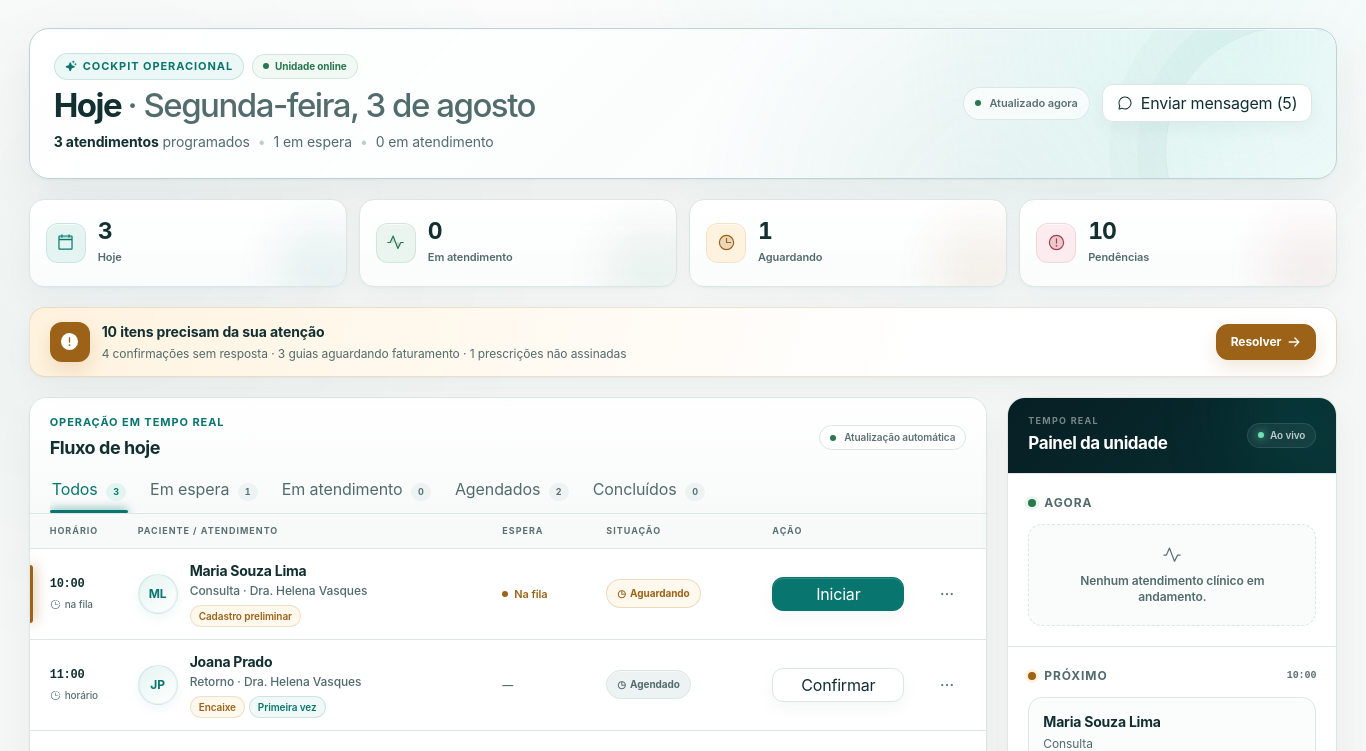
Test case: cockpit Hoje › confirmação de agenda comunica sucesso apenas após a API
Click the button with aria-label "Confirmar para Joana Prado". click: x=838, y=685
box: [772, 668, 904, 702]
(page scrolled)
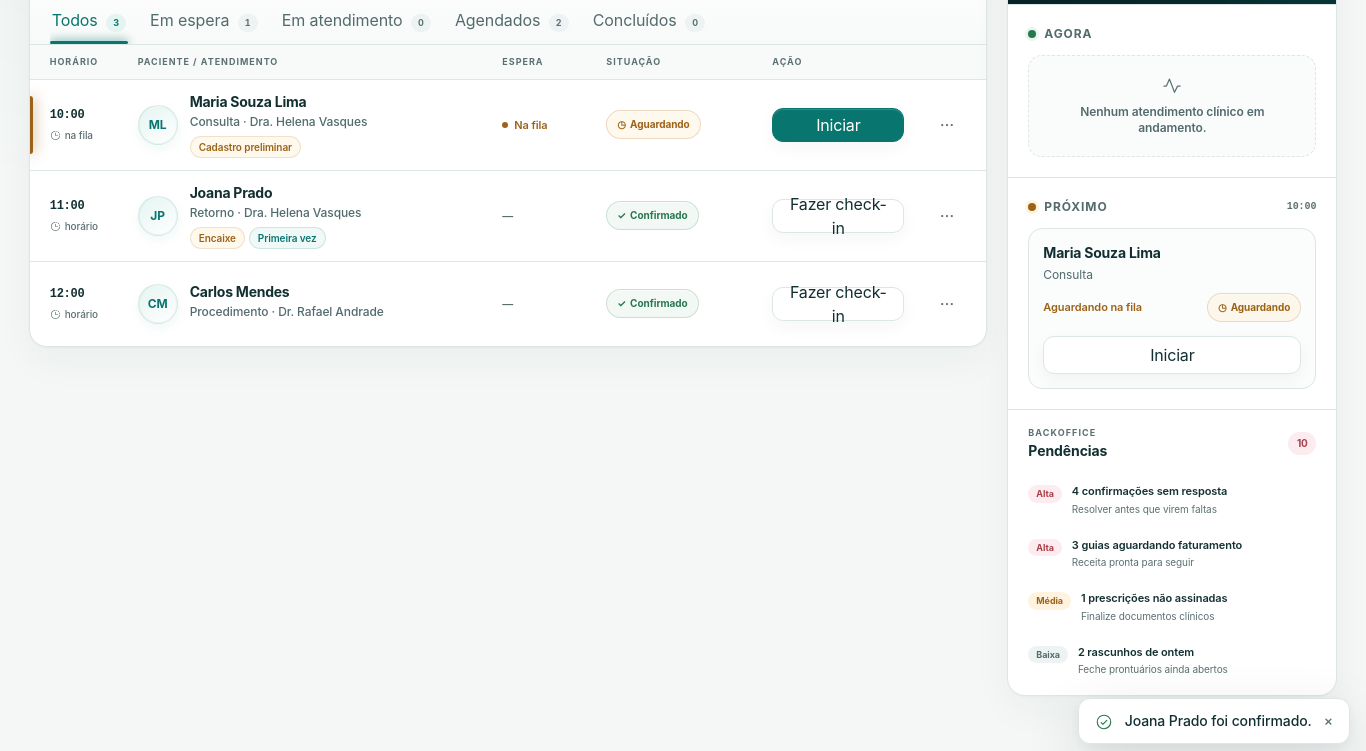
Expected: the message shows "Joana Prado foi confirmado", [1125, 712, 1312, 729]
